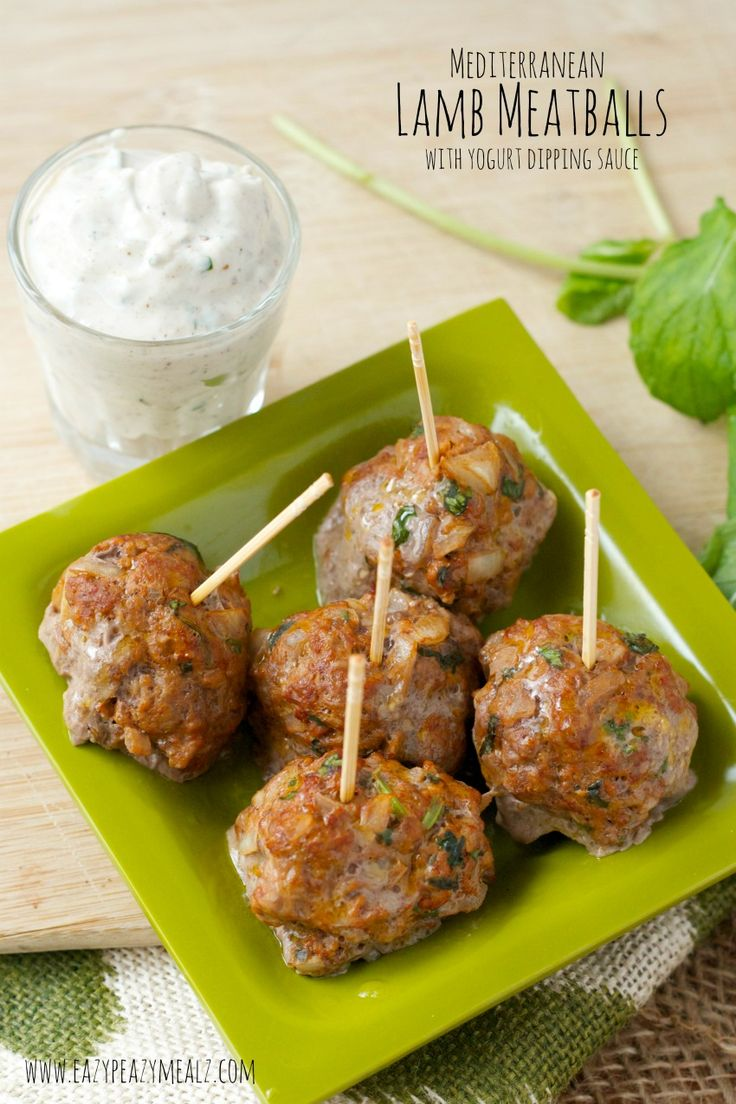meatballs: (494, 608, 688, 838), (251, 752, 476, 946), (316, 434, 535, 610), (59, 549, 243, 754), (248, 601, 483, 756)
